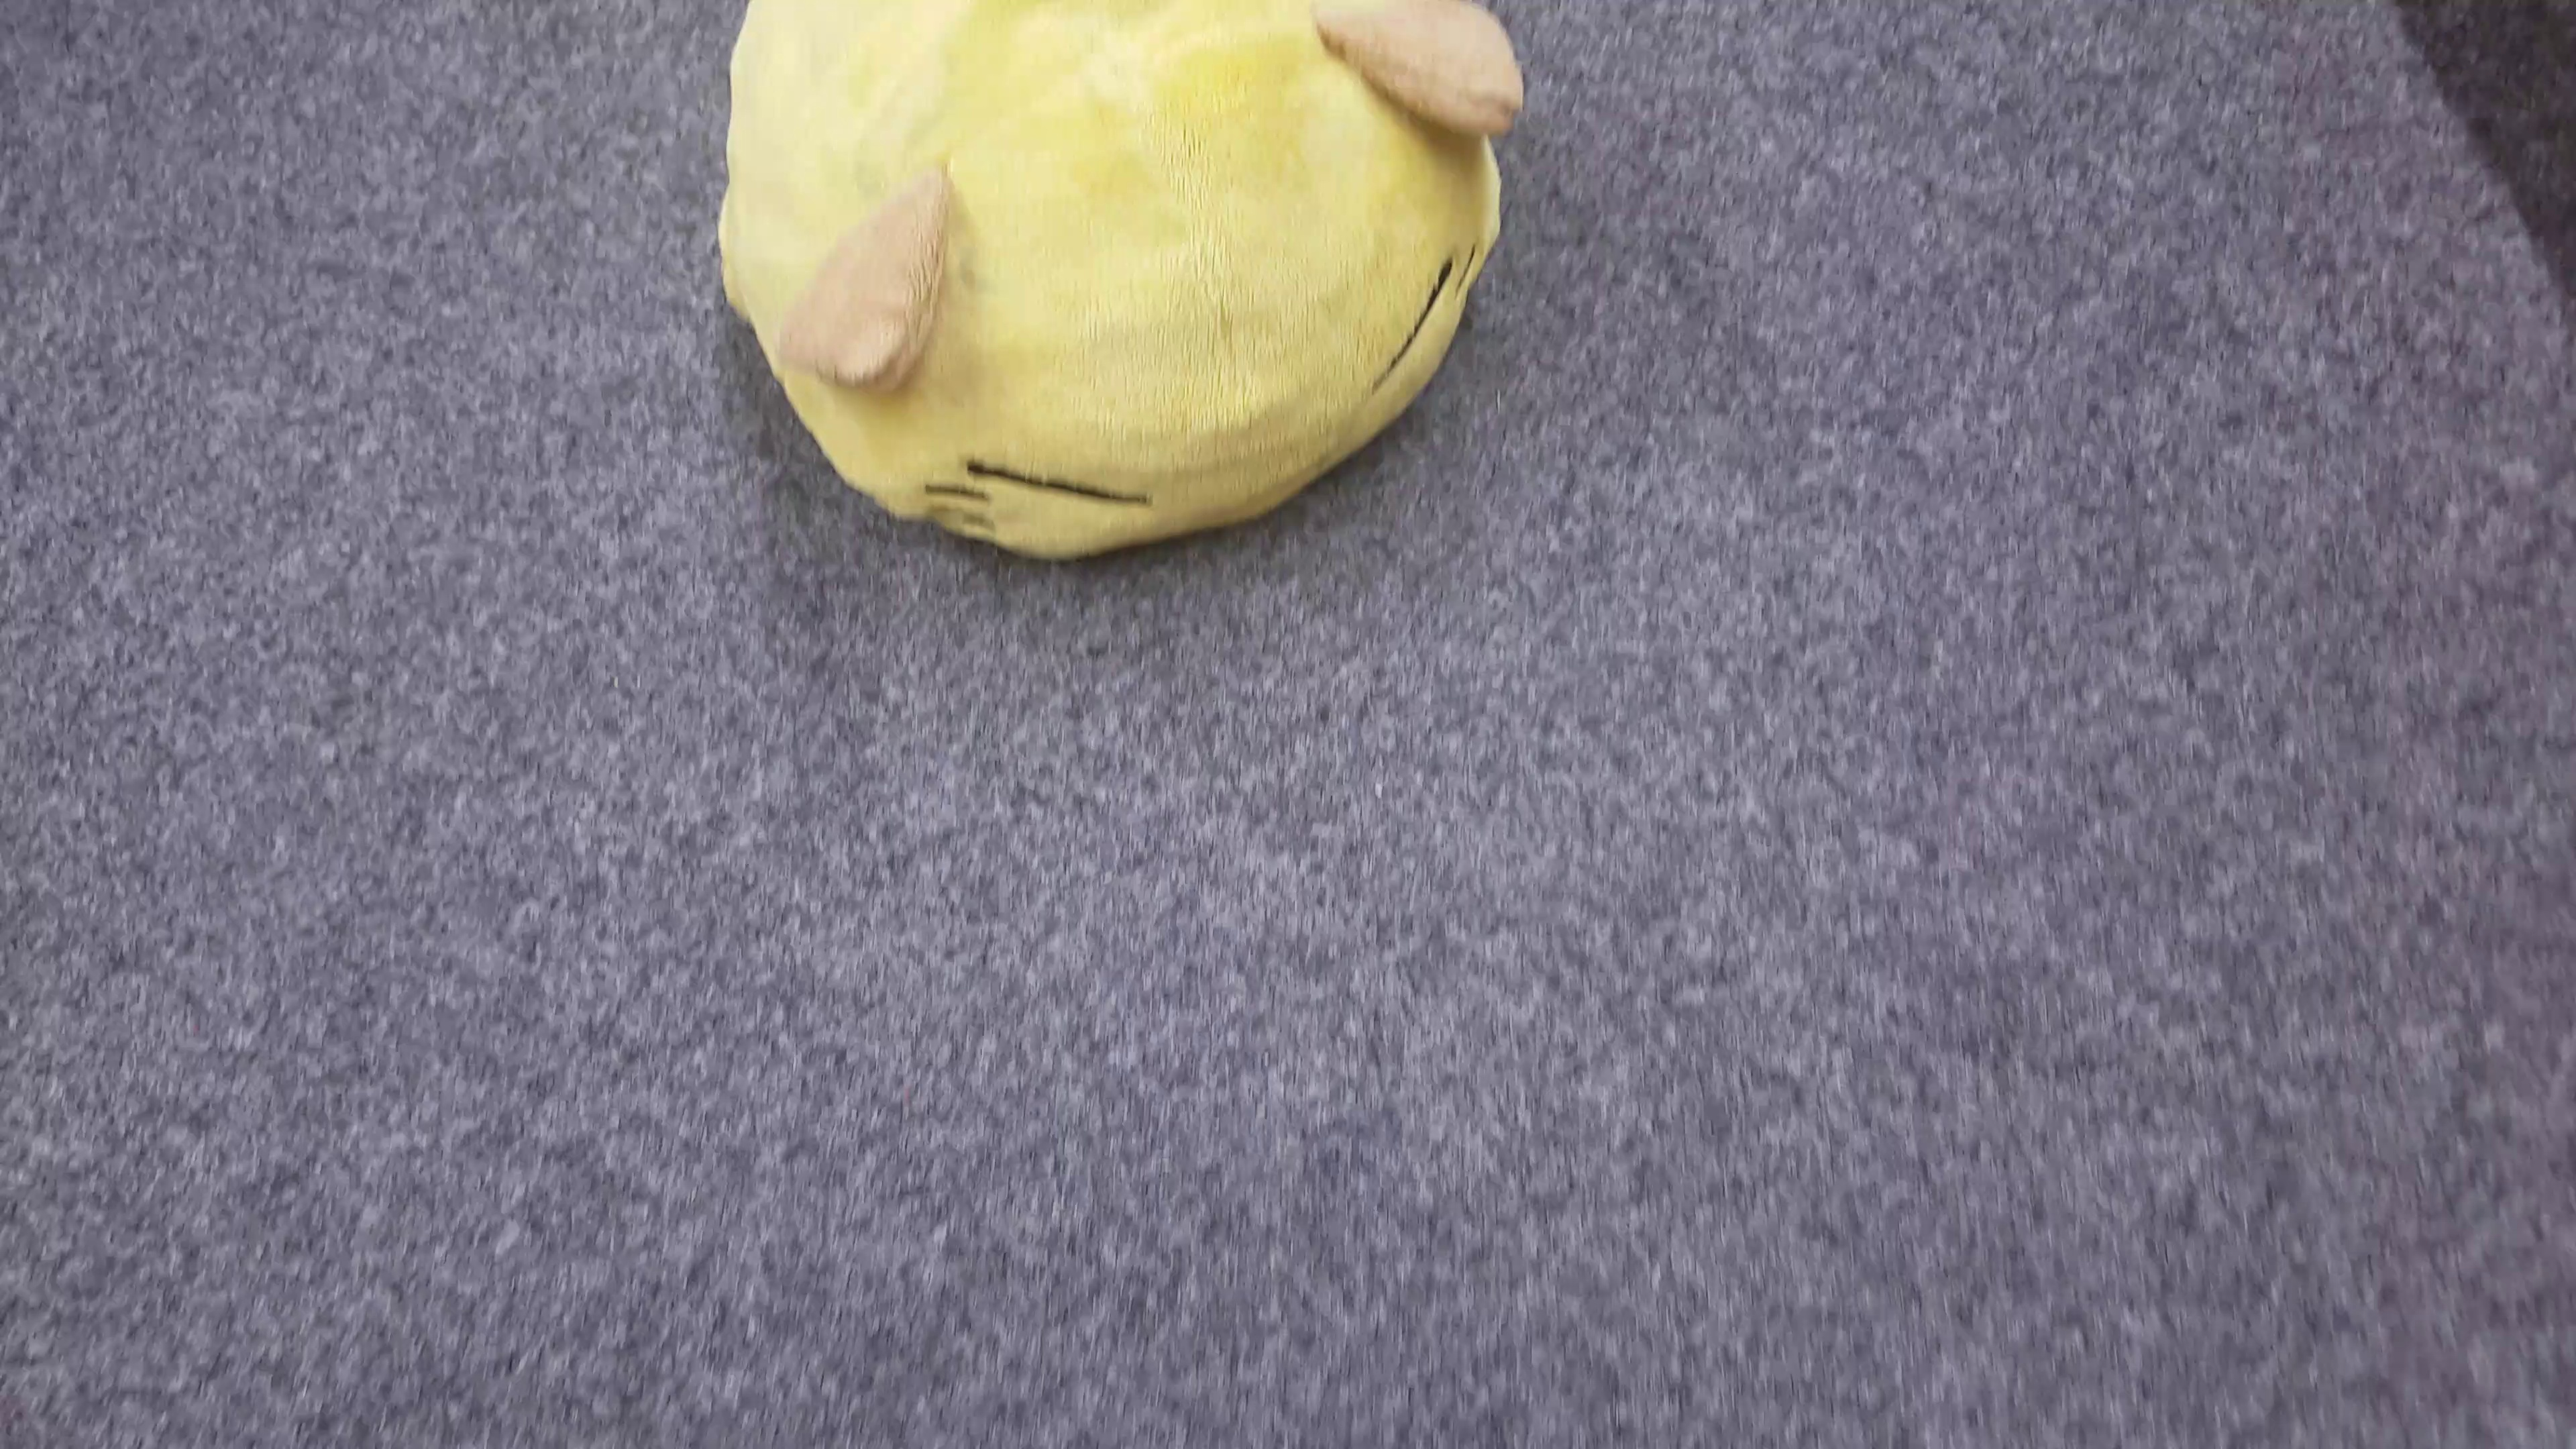grasp: (717, 0, 1520, 556)
